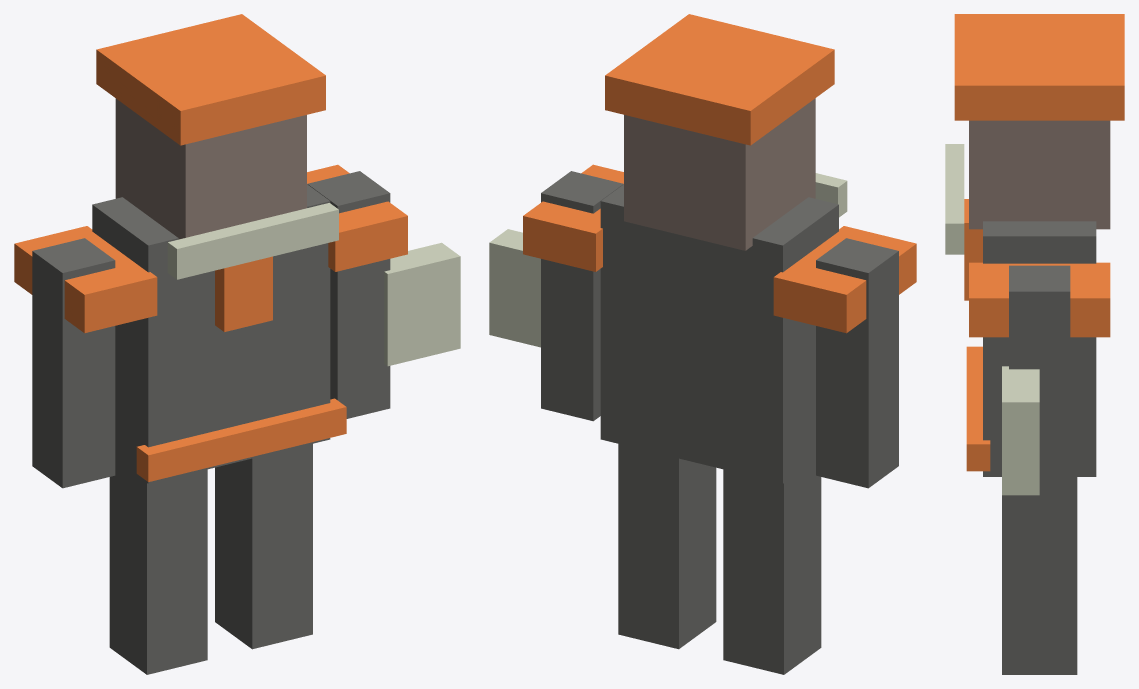
The model's file is 15_thorne_holloway_watcher_under_ore.glb.
The picture shows the model from 3 angles, left to right: view 1: azimuth 30°, elevation 25°; view 2: azimuth 150°, elevation 25°; view 3: azimuth 270°, elevation 25°; orthographic projection.
Visible parts, largest first — view 1: Thorne Holloway, Watcher under Ore; view 2: Thorne Holloway, Watcher under Ore; view 3: Thorne Holloway, Watcher under Ore.
Part boxes in pixels (bbox=[...]): Thorne Holloway, Watcher under Ore: bbox=[14, 14, 460, 674]; Thorne Holloway, Watcher under Ore: bbox=[489, 14, 916, 674]; Thorne Holloway, Watcher under Ore: bbox=[945, 14, 1124, 674].
Bounding box in the file's own units: 1.06 × 1.49 × 0.414.
